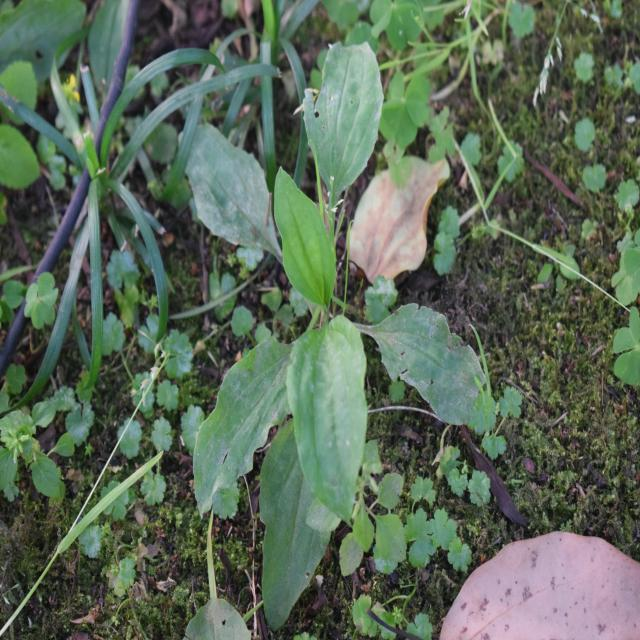plantain: (204, 43, 456, 555)
